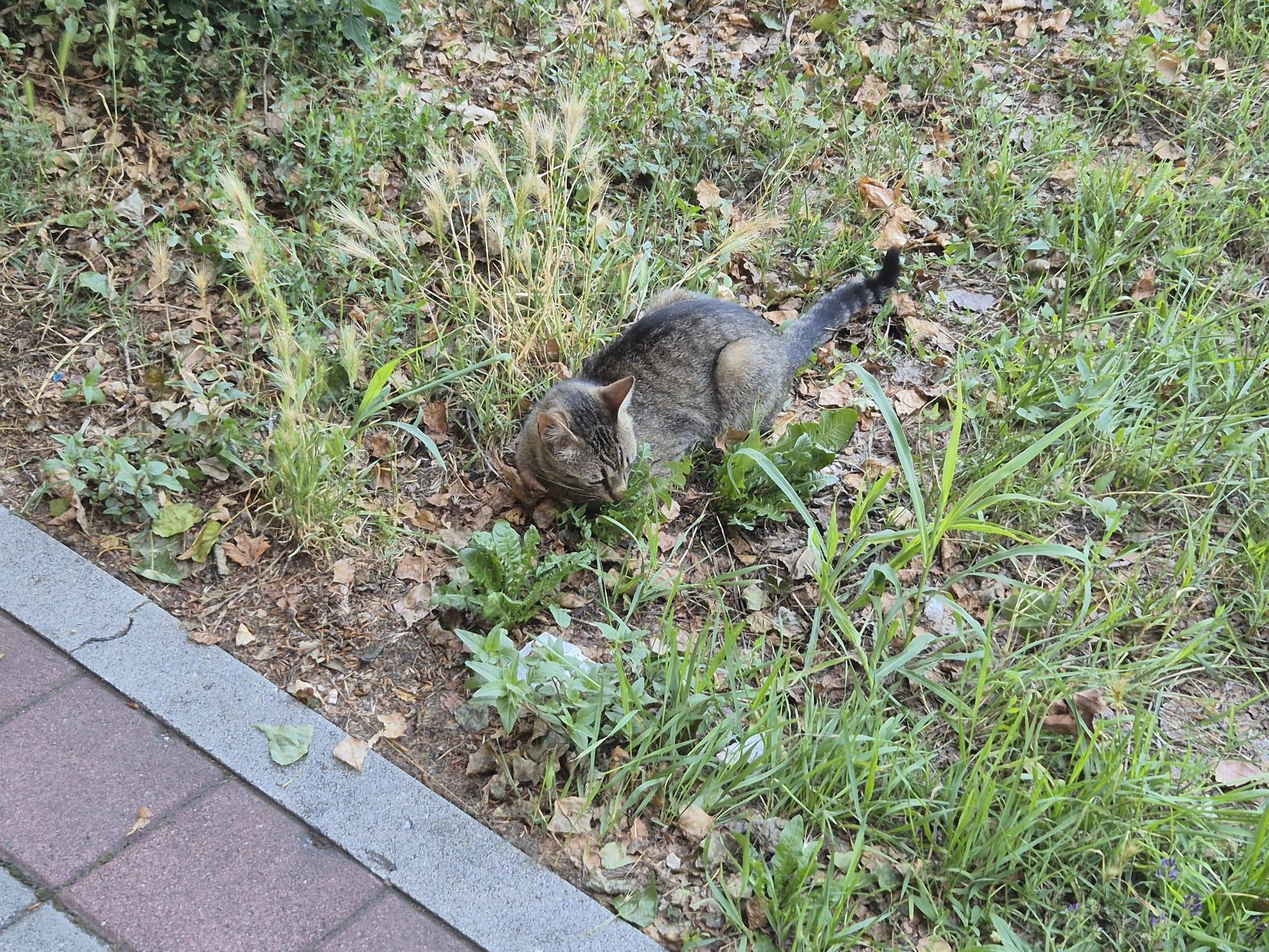macka: (514, 246, 903, 505)
